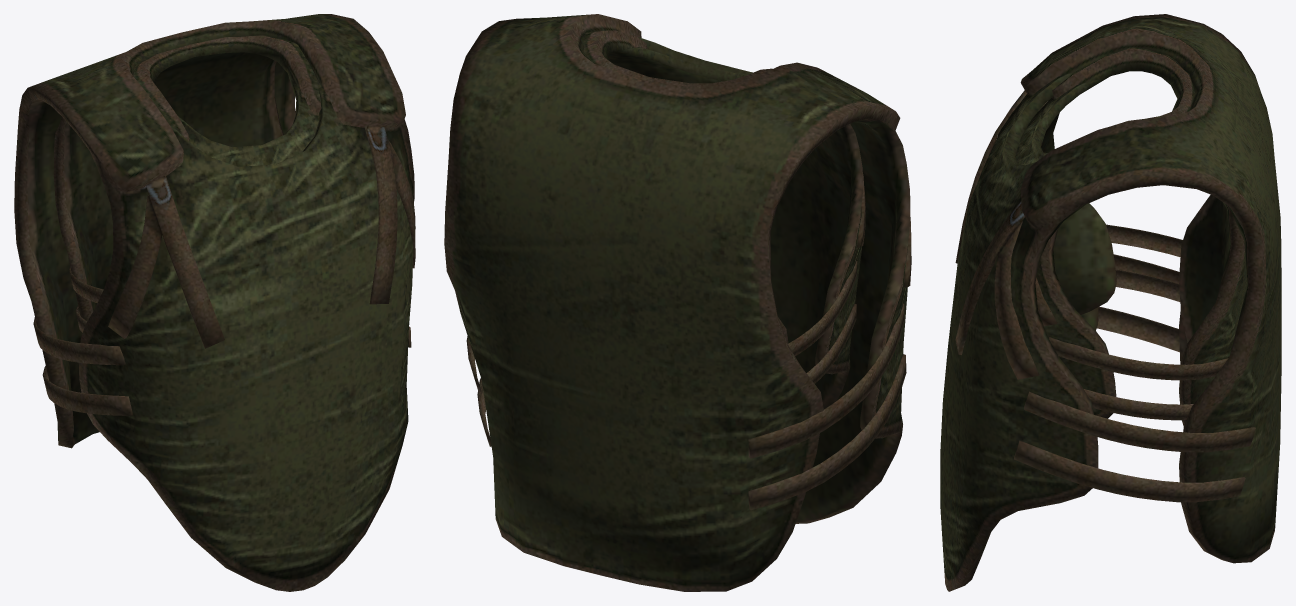
Rendered from Armor81.fbx.
The picture shows the model from 3 angles, left to right: view 1: azimuth 30°, elevation 25°; view 2: azimuth 150°, elevation 25°; view 3: azimuth 270°, elevation 25°; orthographic projection. The views are drawn at different scales.
Visible parts, largest first — view 1: Bronik_J81, Bronik_J81_Female; view 2: Bronik_J81, Bronik_J81_Female; view 3: Bronik_J81, Bronik_J81_Female.
Boxes of the visible parts, x1,y1,x2,y2 form: Bronik_J81: [14, 14, 415, 591]; Bronik_J81_Female: [53, 35, 321, 332]; Bronik_J81: [444, 14, 911, 591]; Bronik_J81_Female: [582, 30, 865, 409]; Bronik_J81: [940, 14, 1281, 591]; Bronik_J81_Female: [1015, 47, 1247, 426].
Size of the model in its own units: 1.11 by 1.57 by 0.9528.
Materials: 1 (1 with a texture image).
